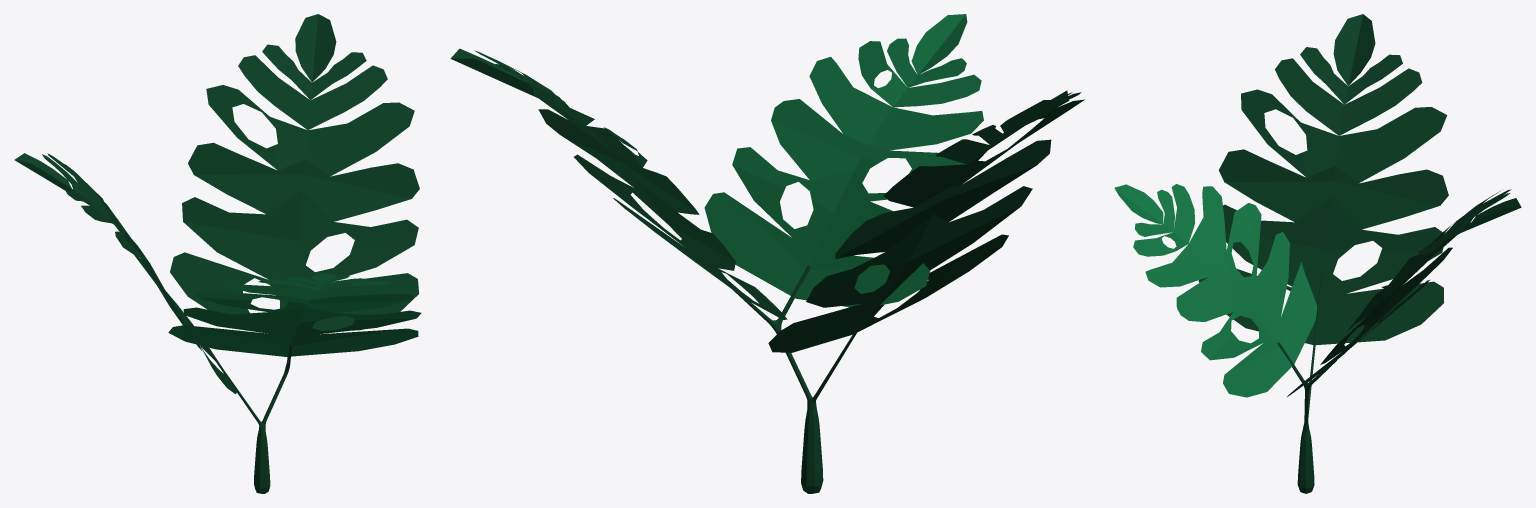
Rendered from brigesPlane_111.fbx.
3 renders of one model, left to right at view 1: azimuth 30°, elevation 25°; view 2: azimuth 150°, elevation 25°; view 3: azimuth 270°, elevation 25°, orthographic. The views are drawn at different scales.
Parts seen in each view (by area): view 1: Plane.111; view 2: Plane.111; view 3: Plane.111.
Boxes of the visible parts, x1,y1,x2,y2 form: Plane.111: (14,14,421,493); Plane.111: (450,14,1085,493); Plane.111: (1114,14,1521,493).
Size of the model in its own units: 307 by 259 by 257.
